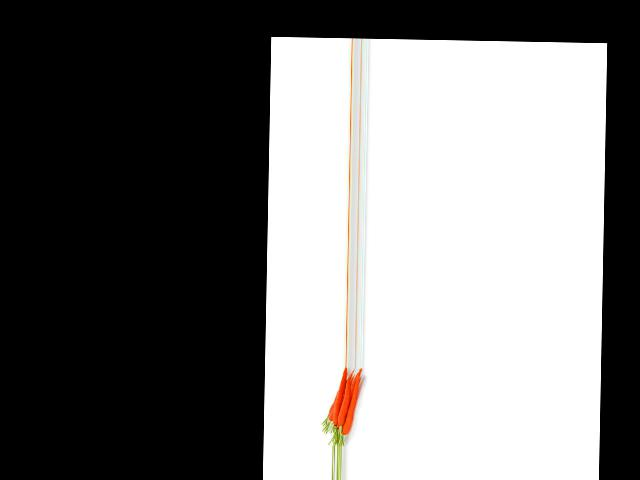carrot: (346, 368, 359, 437)
